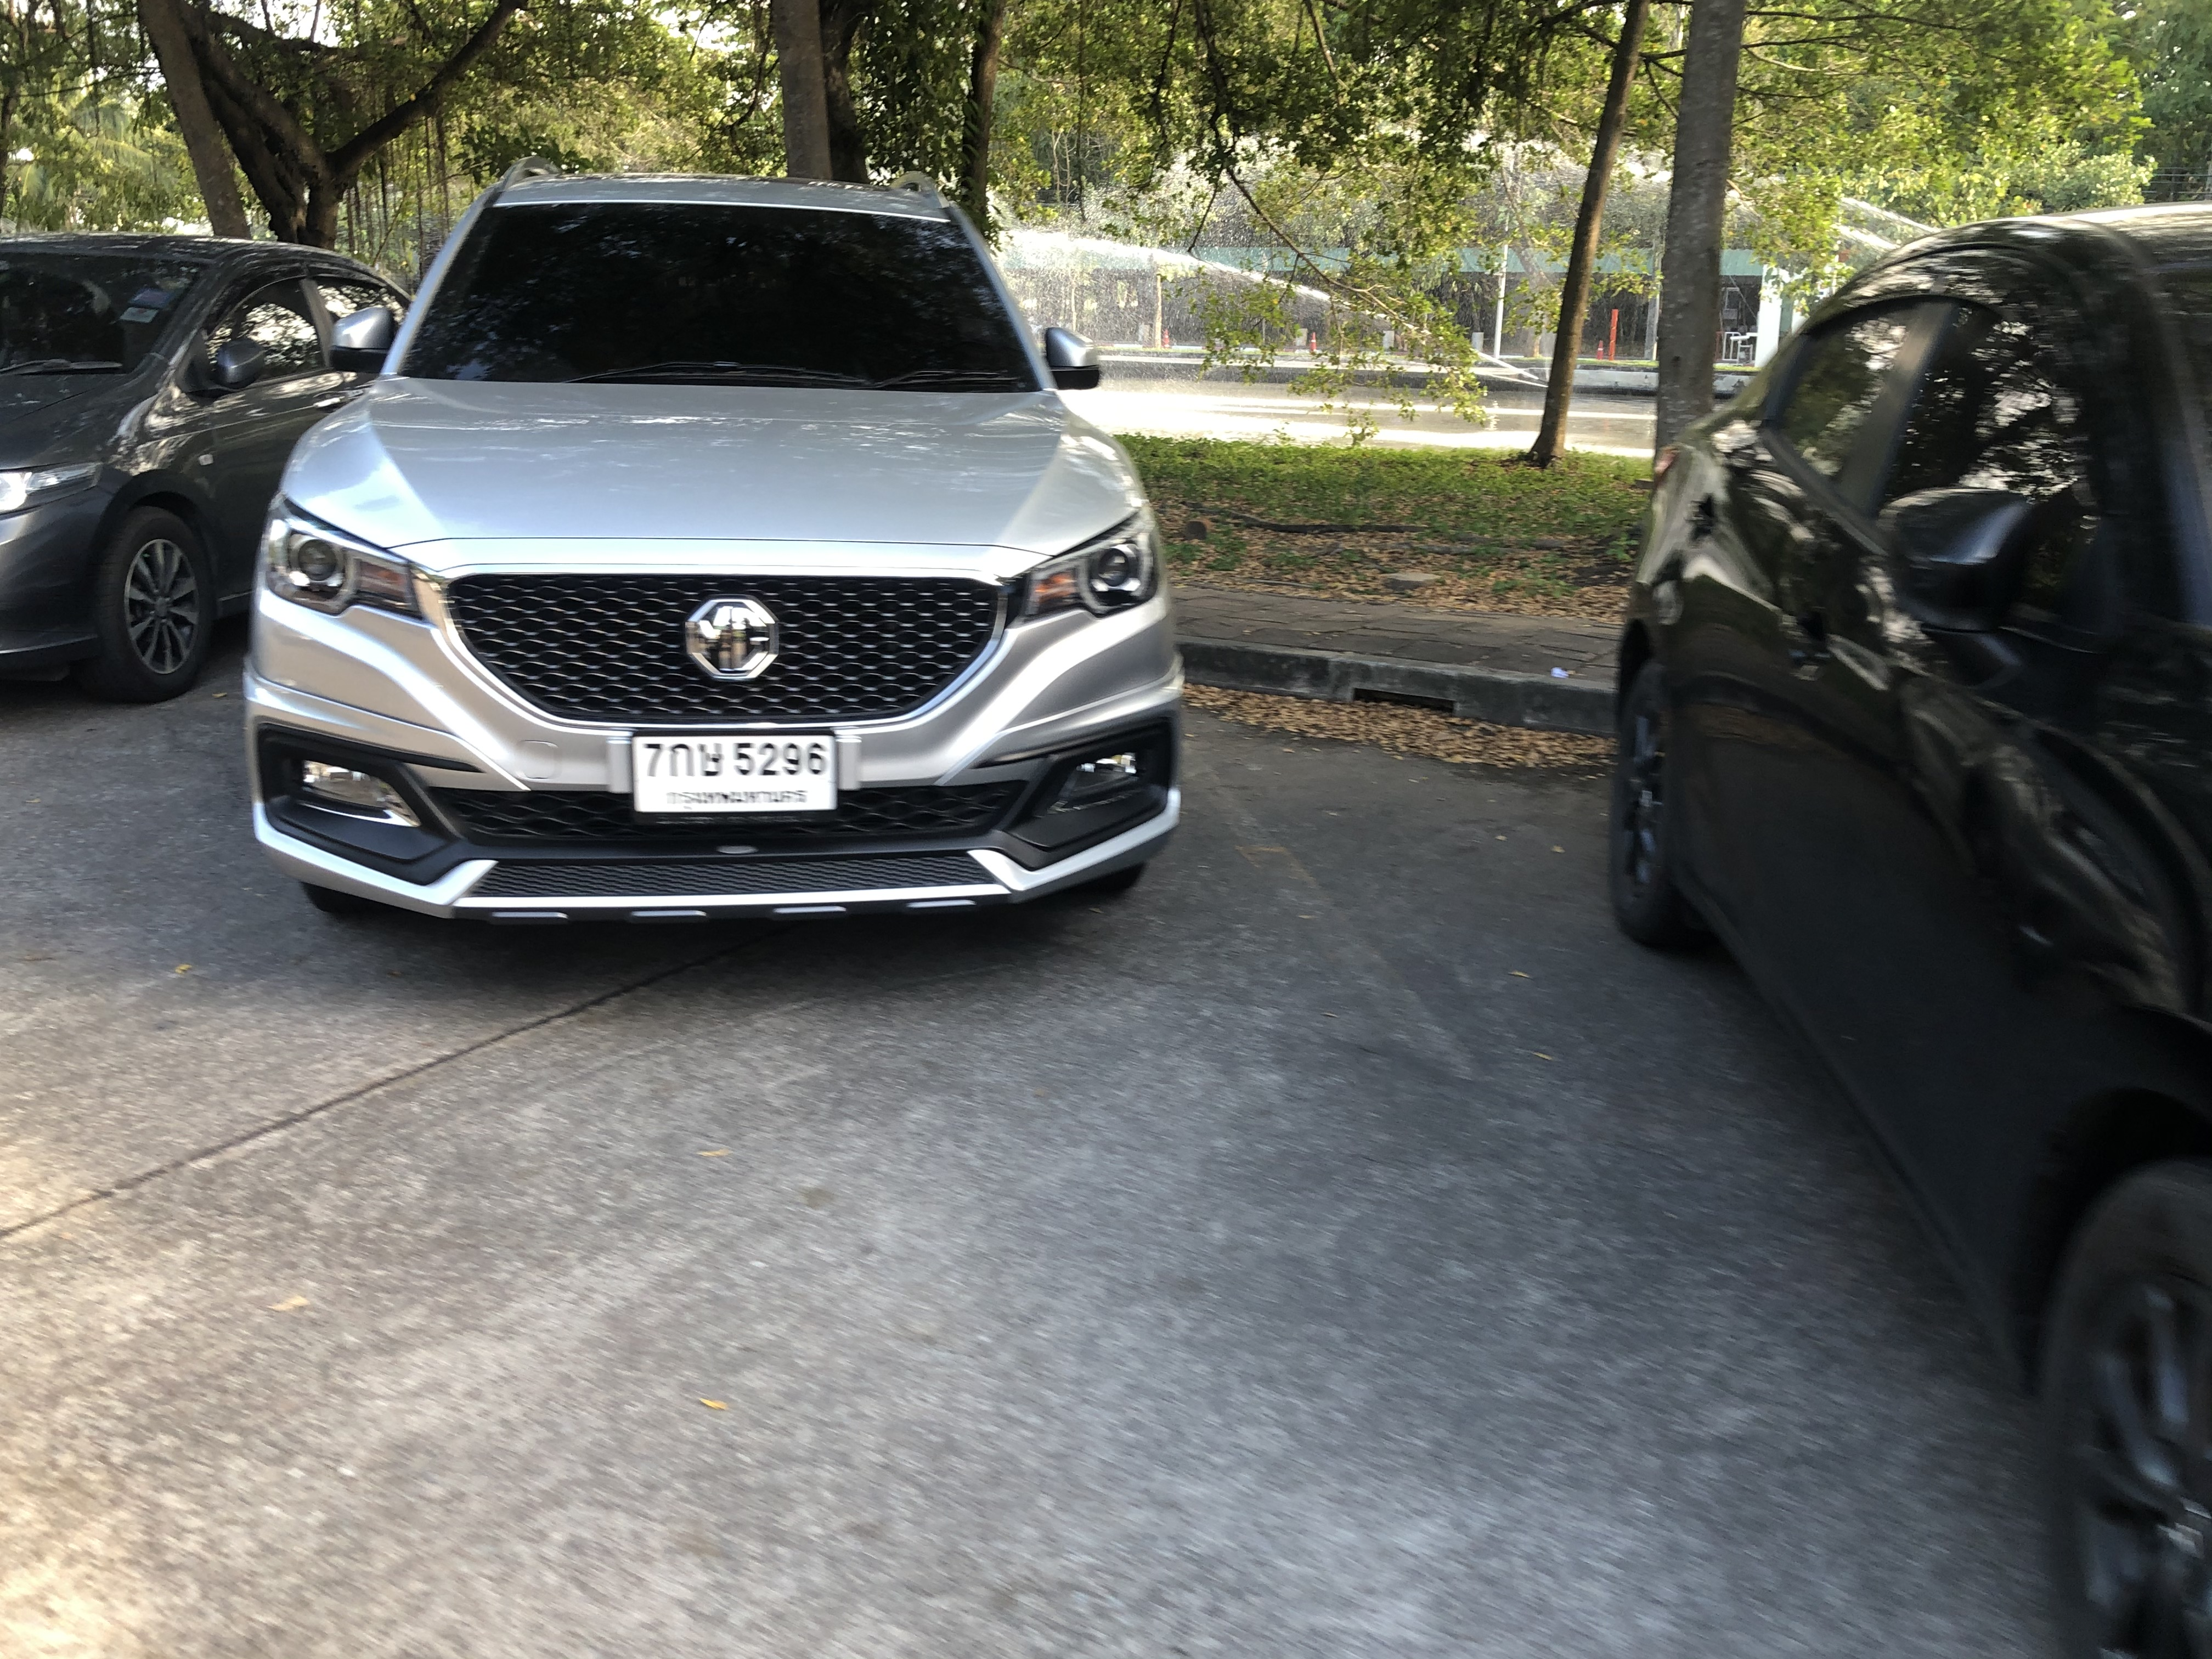in: (637, 741, 838, 810)
out: (622, 727, 850, 828)
